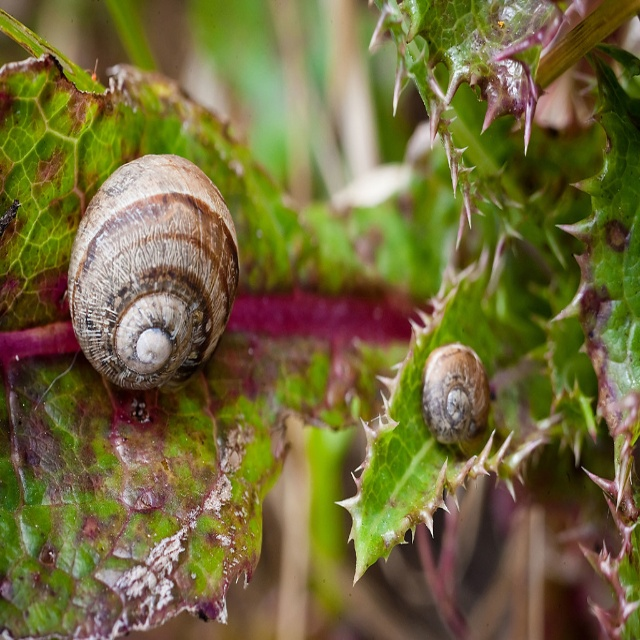Snail: (70, 149, 240, 398), (420, 342, 490, 460), (419, 344, 493, 451)
